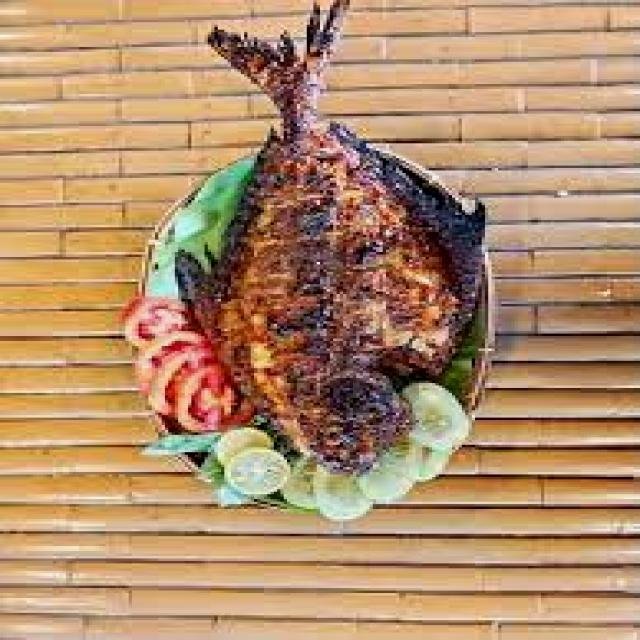ikan bakar: (191, 0, 485, 477)
